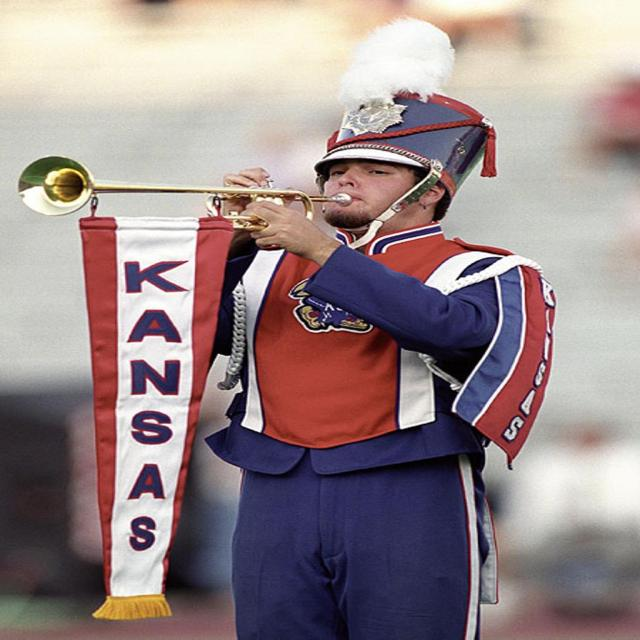Face: (302, 156, 416, 230)
